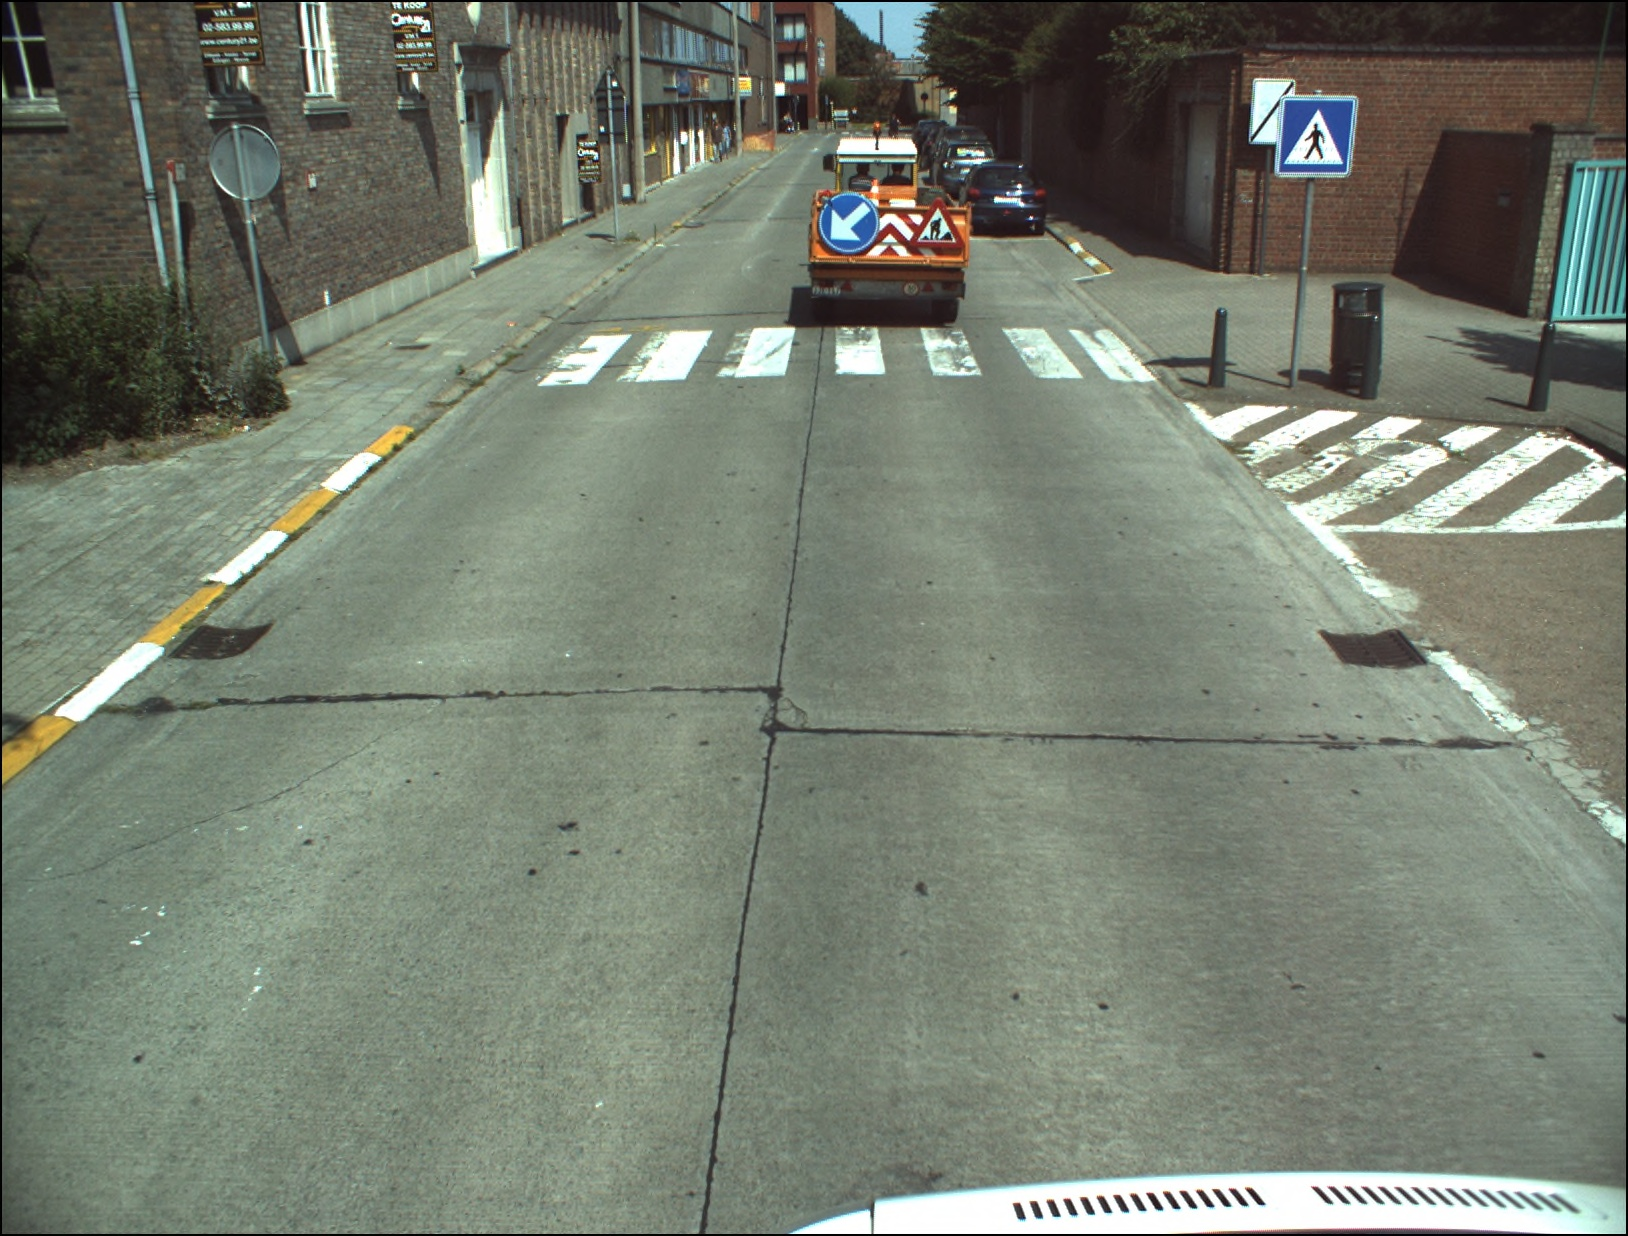construction: (909, 200, 959, 247)
passleft: (818, 193, 882, 252)
pedestrian: (1275, 96, 1357, 179)
